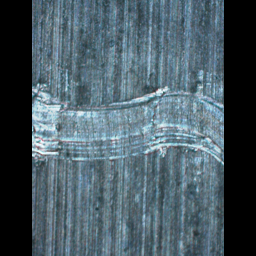d: (32, 76, 223, 173)
